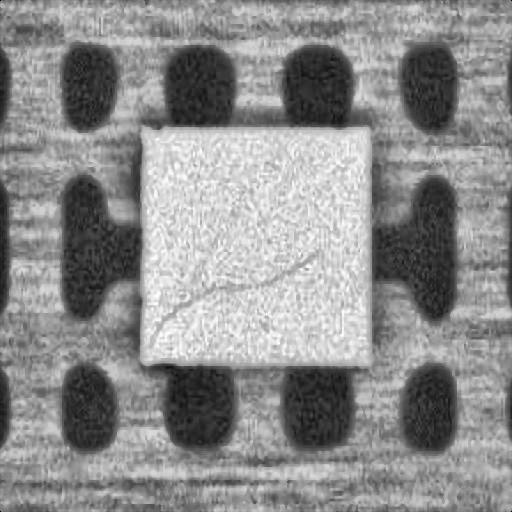DIE_CRACK: (147, 249, 317, 345)
